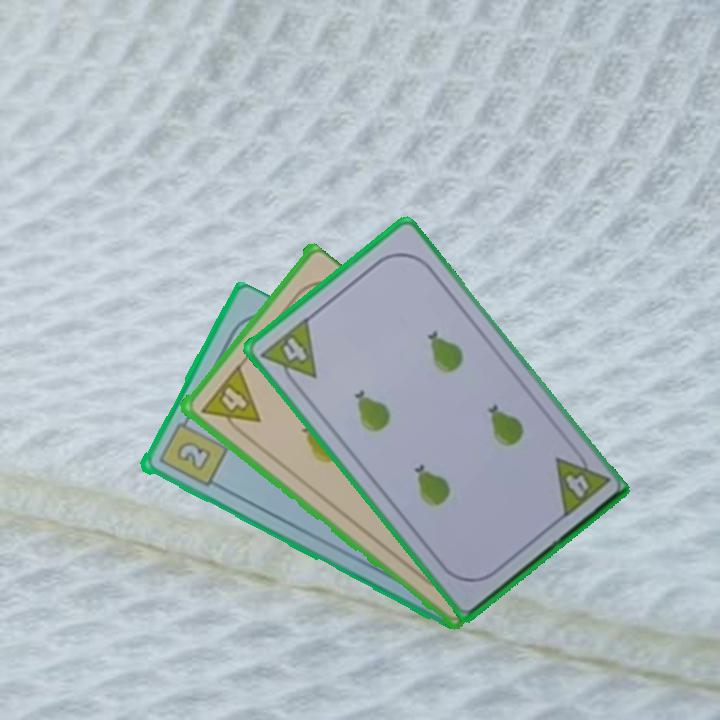2b: (154, 412, 230, 490)
4p: (196, 363, 263, 440), (257, 314, 320, 394), (551, 442, 611, 522)
